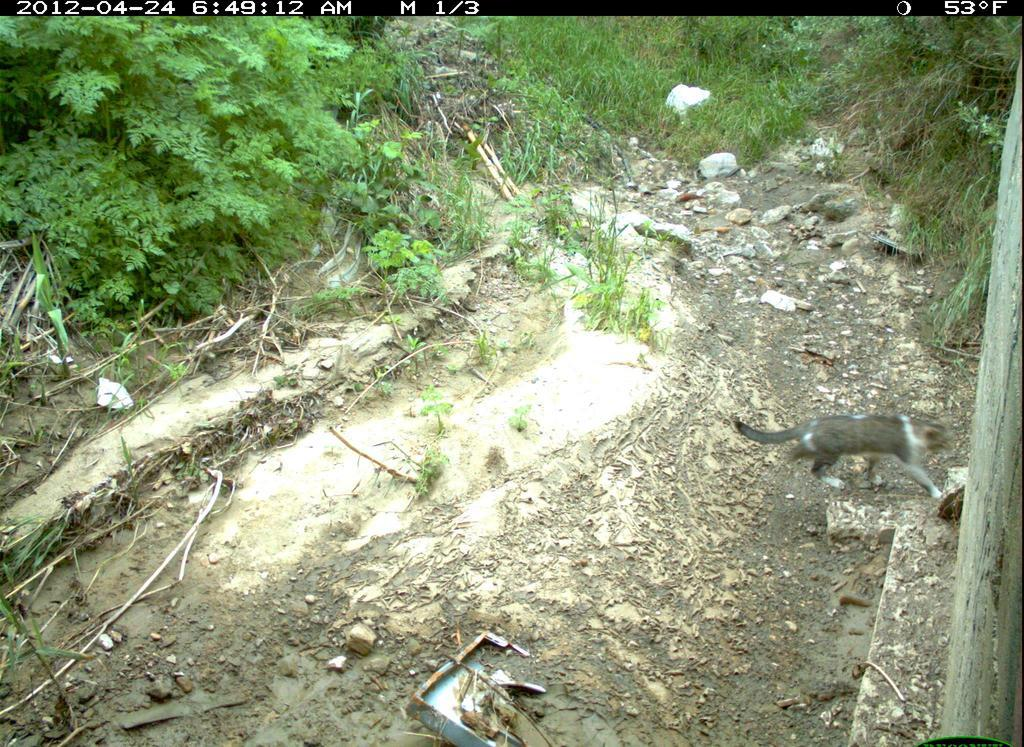cat: (735, 413, 957, 502)
